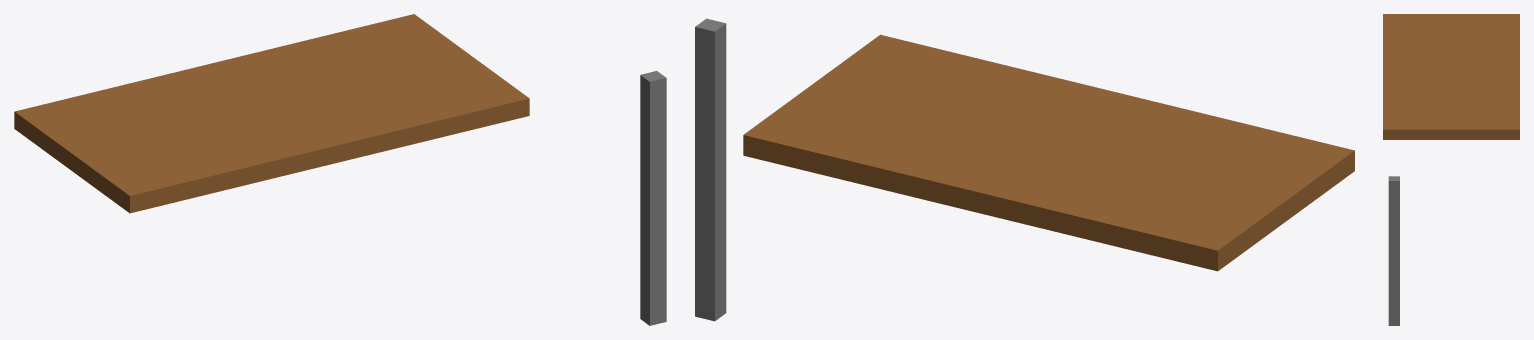
The model's file is table_max.fbx.
The picture shows the model from 3 angles, left to right: view 1: azimuth 30°, elevation 25°; view 2: azimuth 150°, elevation 25°; view 3: azimuth 270°, elevation 25°; orthographic projection. The views are drawn at different scales.
Visible parts, largest first — view 1: top, leg; view 2: top, leg; view 3: top, leg.
Part boxes in pixels (x1,y1,x2,y2): top: (14, 14, 529, 213); leg: (640, 71, 666, 325); top: (743, 34, 1354, 271); leg: (695, 18, 726, 321); top: (1383, 14, 1519, 139); leg: (1388, 176, 1399, 325).
Size of the model in its own units: 65 by 24 by 30.
